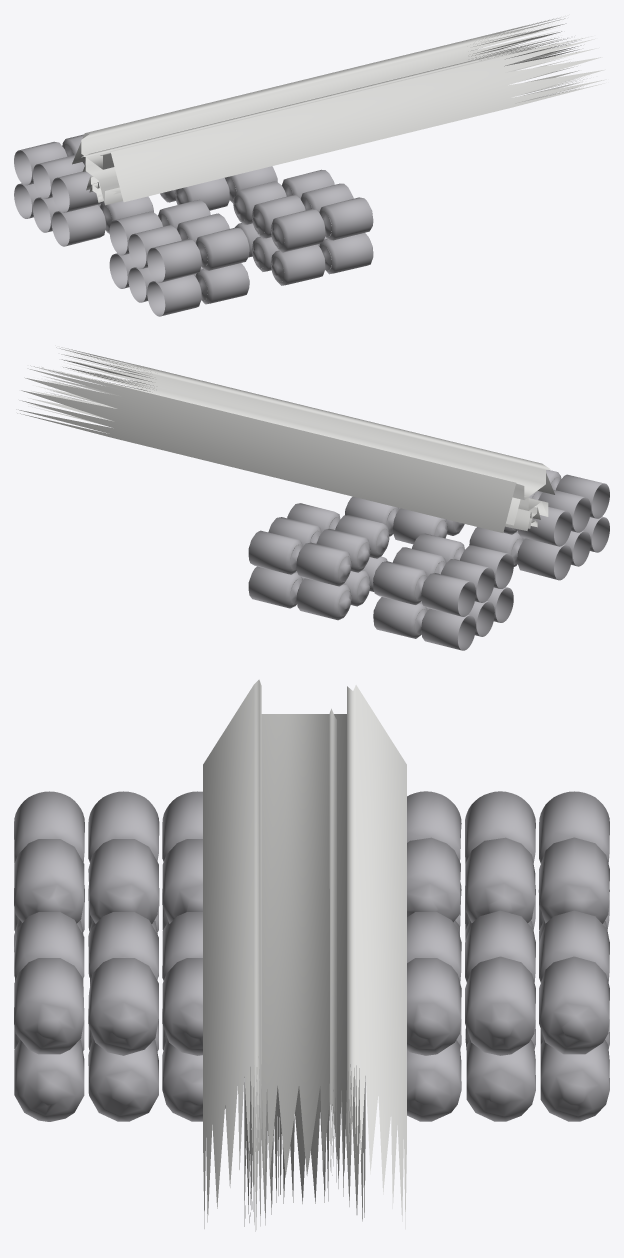
The model's file is iss-truss-s3-s4.glb.
3 renders of one model, top to bottom at view 1: azimuth 30°, elevation 25°; view 2: azimuth 150°, elevation 25°; view 3: azimuth 270°, elevation 25°, orthographic. The views are drawn at different scales.
Parts seen in each view (by area): view 1: truss-s3-s4; view 2: truss-s3-s4; view 3: truss-s3-s4.
Boxes of the visible parts, left/top/right/bottom form: truss-s3-s4: left=14, top=17, right=606, bottom=316; truss-s3-s4: left=16, top=347, right=609, bottom=650; truss-s3-s4: left=14, top=679, right=609, bottom=1231.
Size of the model in its own units: 16.39 by 3.89 by 8.62.
Materials: 1 (1 with a texture image).
